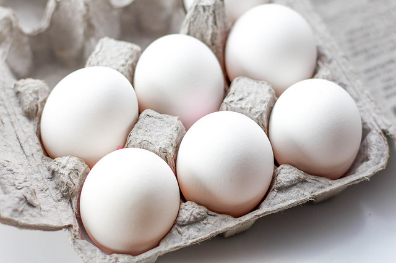egg: (36, 62, 141, 188), (77, 143, 185, 252), (182, 106, 280, 218), (264, 76, 364, 183), (130, 31, 230, 136), (223, 3, 320, 100)
